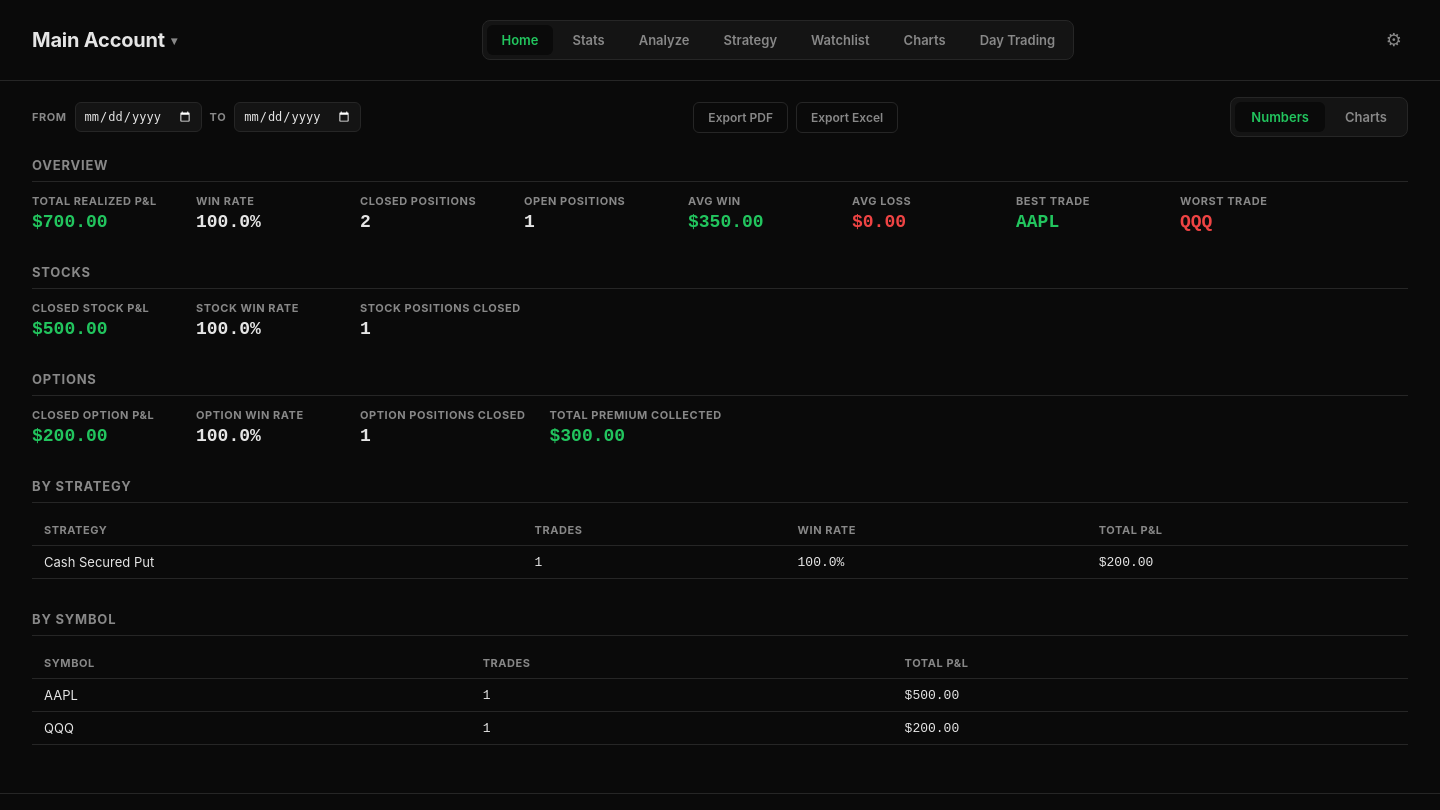
it: StatsPage › filters everything by sell date when a start date is set
The width and height of the screenshot is (1440, 810).
Type "2026-01-11" into the date field labelled "From" at (138, 117), box [75,102,202,132]
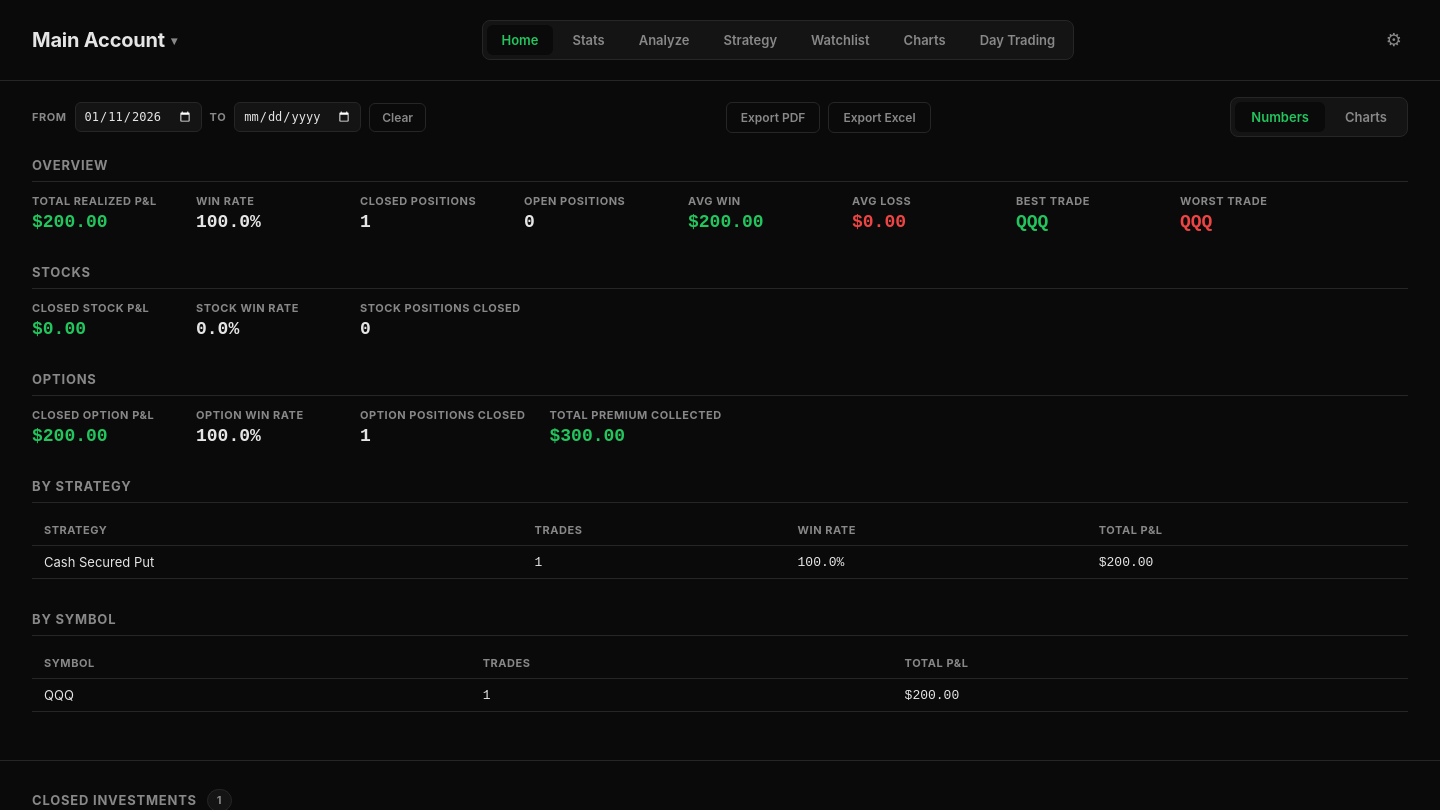
Expected: the text "AAPL" is gone
Expected: the text with class "stat-tile-value" below "Closed Positions" reads "1", [360,212,371,232]
